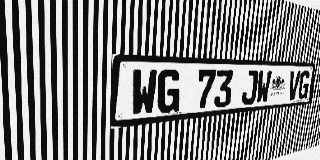3: (213, 70, 233, 108)
7: (195, 70, 216, 110)
G: (156, 69, 181, 114), (297, 71, 311, 99)
J: (241, 70, 259, 105)
V: (286, 71, 301, 101)
W: (130, 69, 158, 117), (255, 70, 272, 104)
